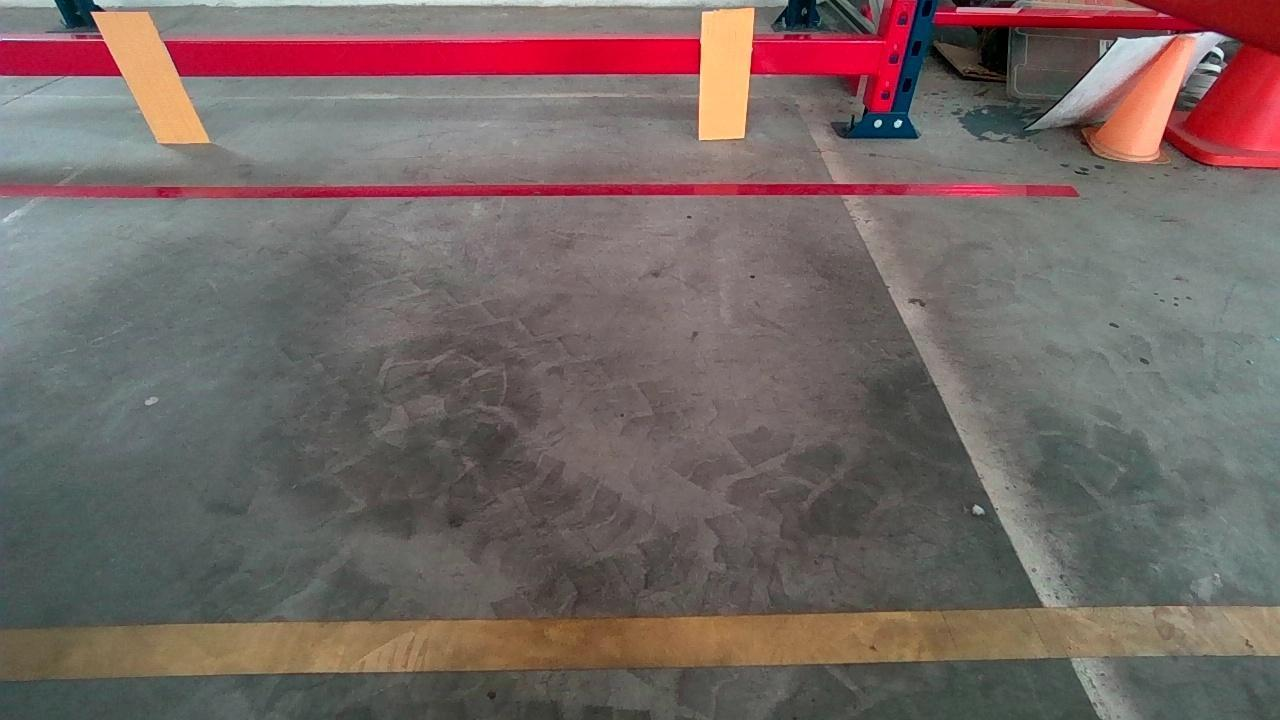h_rack: (11, 37, 884, 81)
orange_strip: (91, 11, 209, 141), (698, 8, 753, 138)
red_line: (12, 178, 1056, 202)
